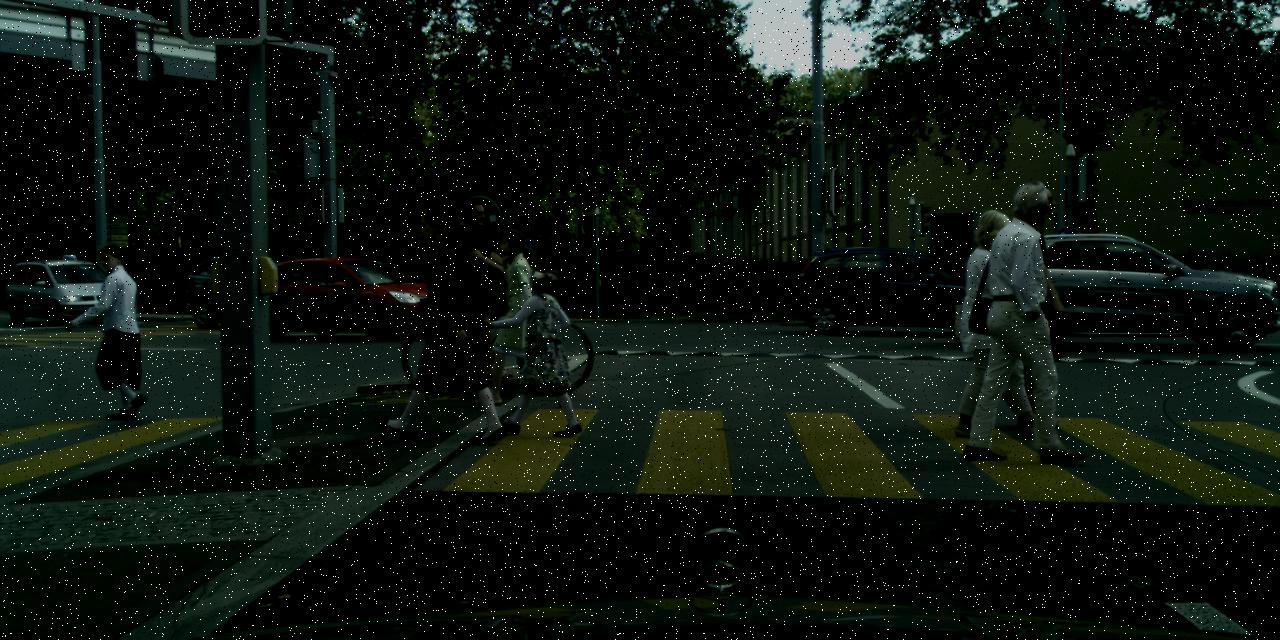ped: (974, 184, 1088, 461), (980, 183, 1078, 421), (392, 206, 488, 438), (953, 209, 1045, 435), (484, 228, 555, 404), (86, 244, 156, 414), (504, 264, 574, 434), (445, 200, 514, 370)
